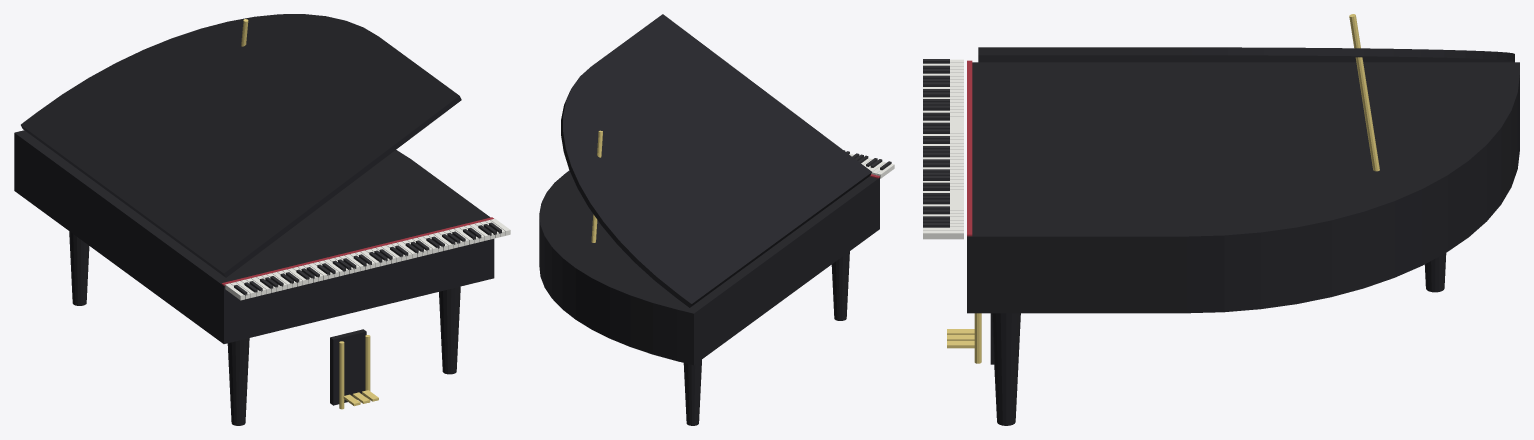
Rendered from grand_piano.glb.
The picture shows the model from 3 angles, left to right: view 1: azimuth 30°, elevation 25°; view 2: azimuth 150°, elevation 25°; view 3: azimuth 270°, elevation 25°; orthographic projection. The views are drawn at different scales.
Visible parts, largest first — view 1: Lid, Case, LyreBoard, LegFrontR, LegFrontL, LegTail, KeyFelt; view 2: Lid, Case, LegFrontL, LegTail; view 3: Case, Lid, LegFrontR, LidProp, KeyFelt, LegTail.
Part boxes in pixels (x1,y1,x2,y2): Lid: (21, 14, 461, 277); Case: (14, 130, 494, 343); LyreBoard: (330, 329, 366, 405); LegFrontR: (439, 286, 460, 374); LegFrontL: (227, 338, 249, 425); LegTail: (69, 231, 89, 305); KeyFelt: (221, 217, 493, 285); Lid: (561, 14, 871, 307); Case: (539, 170, 879, 365); LegFrontL: (831, 251, 849, 320); LegTail: (683, 359, 701, 425); Case: (967, 62, 1519, 313); Lid: (978, 47, 1514, 62); LegFrontR: (991, 313, 1020, 425); LidProp: (1349, 14, 1379, 171); KeyFelt: (967, 60, 972, 236); LegTail: (1424, 253, 1446, 292).
Size of the model in its own units: 1.46 by 1.46 by 2.11.
